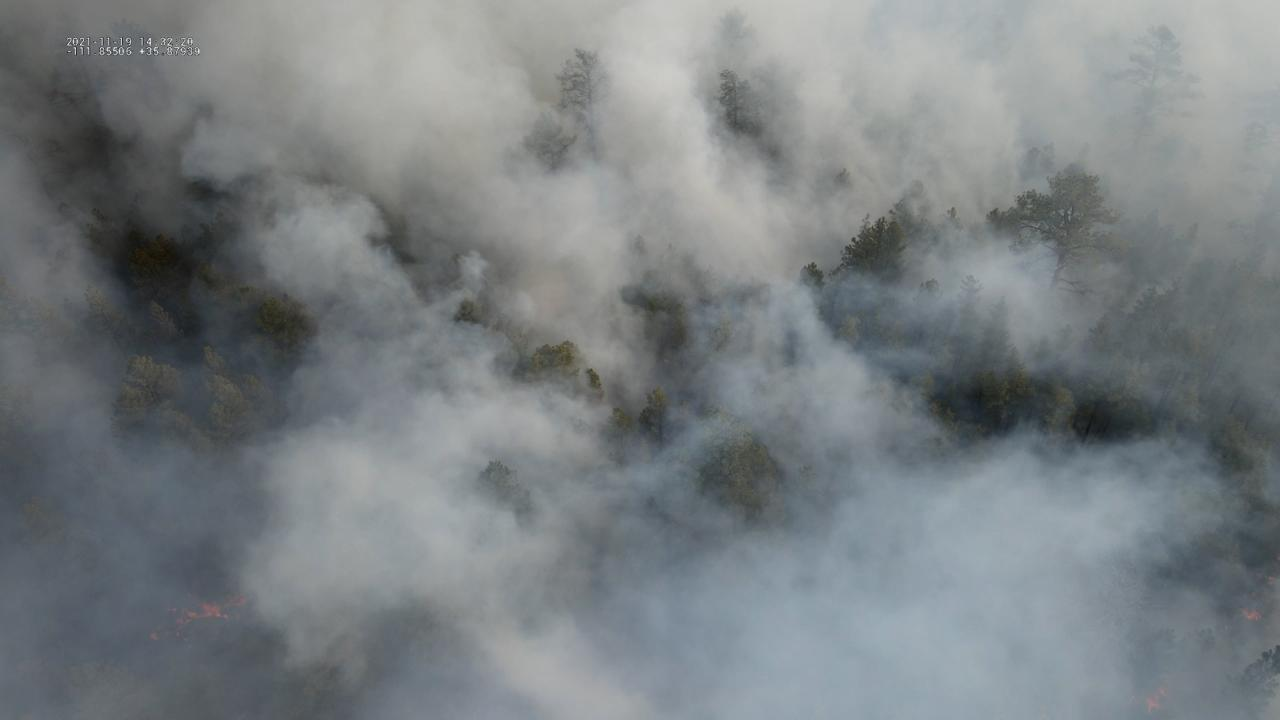fire: (147, 589, 248, 643), (1234, 602, 1264, 623), (1144, 696, 1162, 714), (1266, 574, 1277, 588), (1157, 686, 1167, 696)
smoke: (0, 0, 1280, 720)
